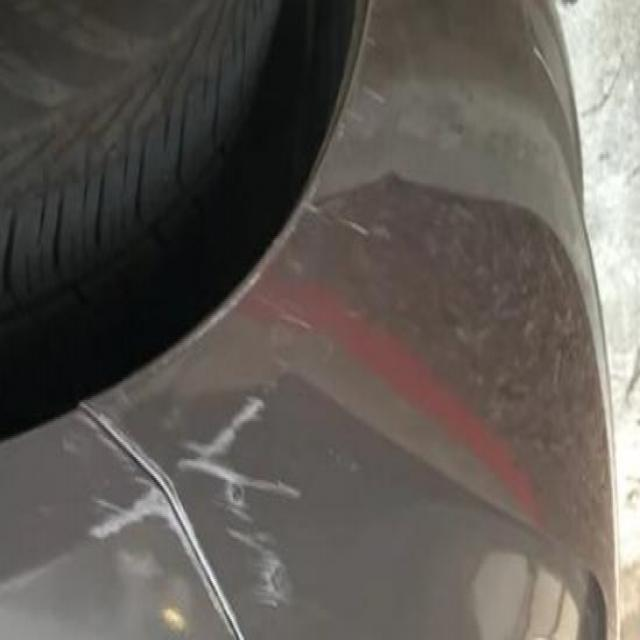scratch: (55, 369, 312, 640)
